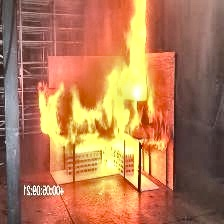fire: (37, 1, 166, 179)
